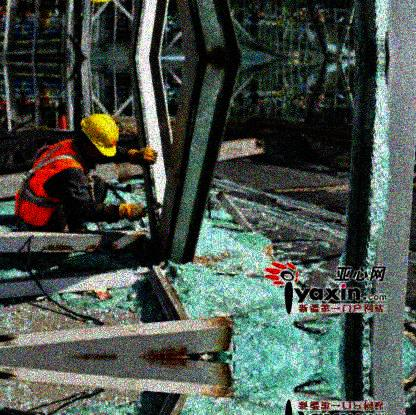helmet: (71, 112, 119, 163)
